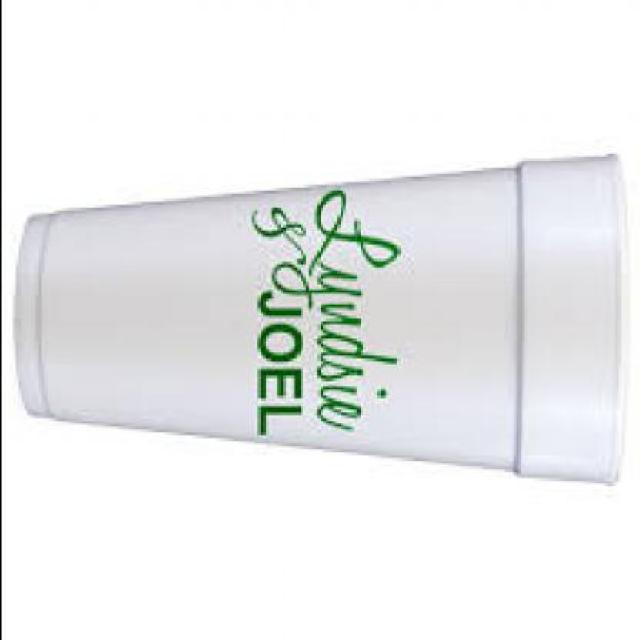PAPER: (17, 148, 629, 481)
